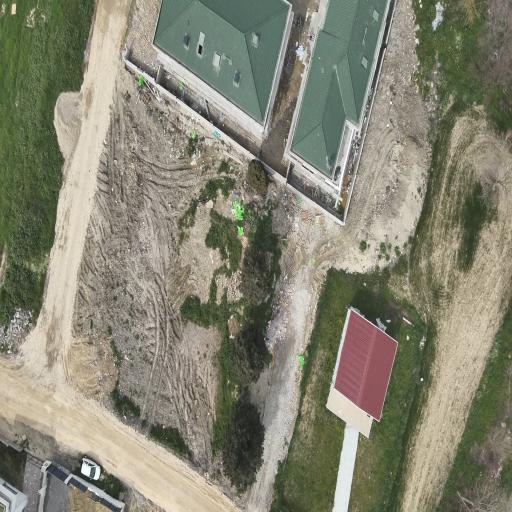car: (81, 458, 100, 480)
